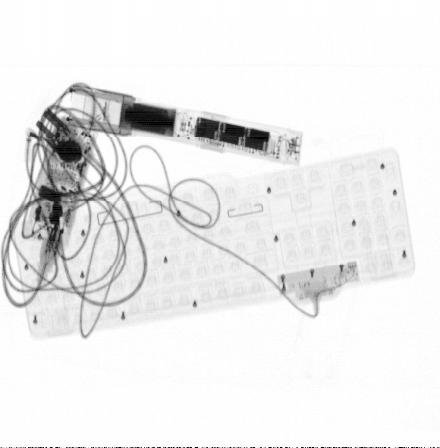Baton: (64, 83, 304, 168)
